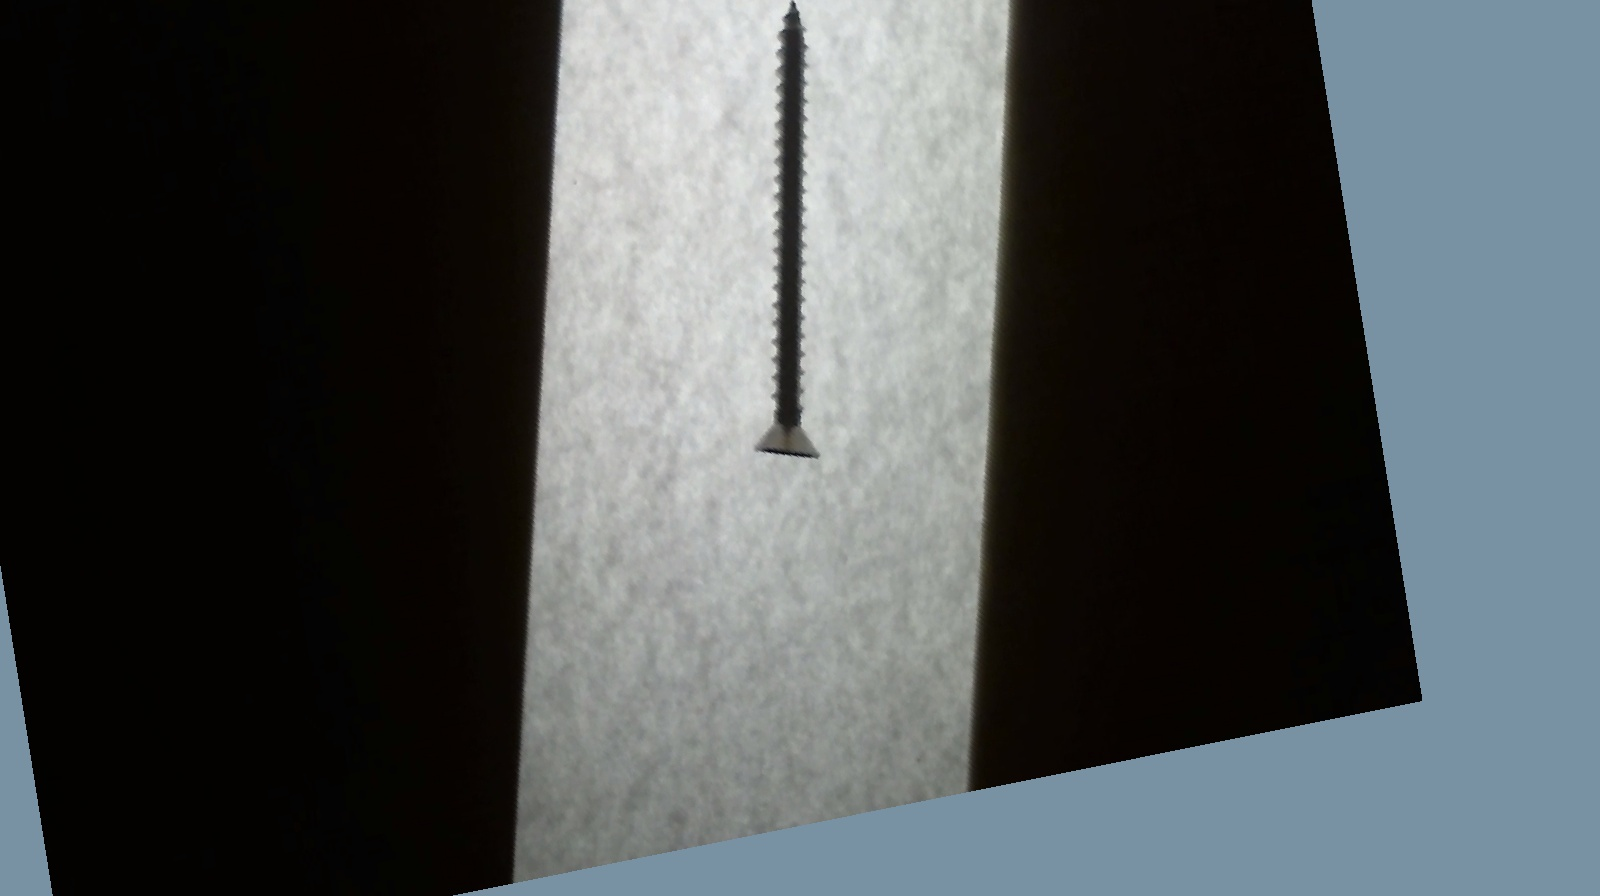S002: (675, 0, 901, 480)
